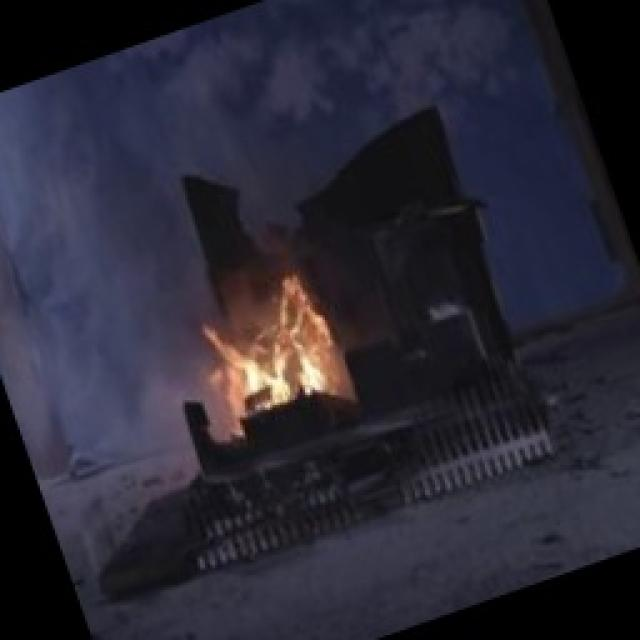fire: (178, 242, 380, 440)
